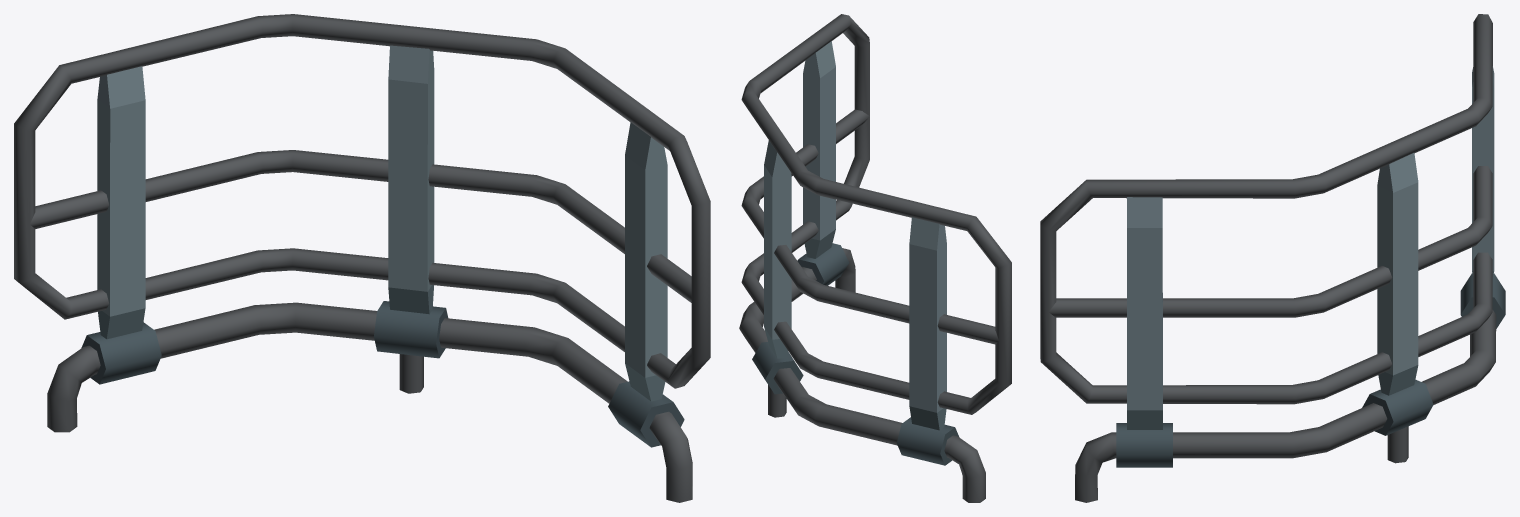
The model's file is Fence_type_B_004.glb.
3 renders of one model, left to right at view 1: azimuth 30°, elevation 25°; view 2: azimuth 150°, elevation 25°; view 3: azimuth 270°, elevation 25°, orthographic. The views are drawn at different scales.
Parts seen in each view (by area): view 1: Fence_type_B_004; view 2: Fence_type_B_004; view 3: Fence_type_B_004.
Part boxes in pixels (x1,y1,x2,y2): Fence_type_B_004: (14, 14, 710, 502); Fence_type_B_004: (739, 14, 1011, 502); Fence_type_B_004: (1040, 14, 1505, 502).
Bounding box in the file's own units: 1.9 × 1.43 × 1.9.
Materials: 1 (1 with a texture image).
